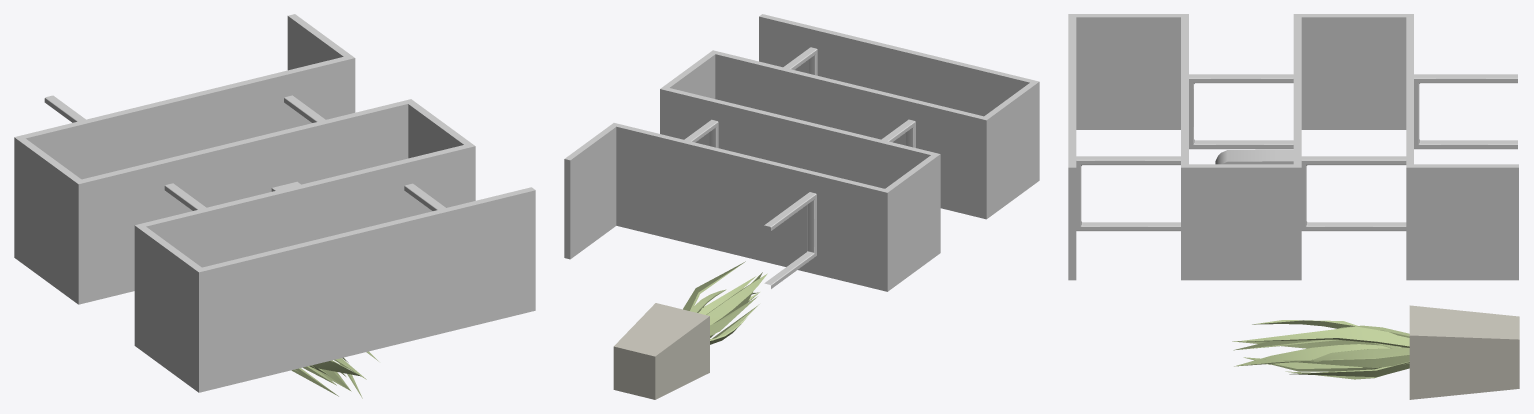
3 views of the same model, side by side, from view 1: azimuth 30°, elevation 25°; view 2: azimuth 150°, elevation 25°; view 3: azimuth 270°, elevation 25° (orthographic). The views are drawn at different scales.
Visible parts, largest first — view 1: LOD 1_9349224857173253257_9f73f2b44b4d1f845949e963dff5a984; view 2: LOD 1_9349224857173253257_9f73f2b44b4d1f845949e963dff5a984; view 3: LOD 1_9349224857173253257_9f73f2b44b4d1f845949e963dff5a984.
Boxes of the visible parts, x1,y1,x2,y2 form: LOD 1_9349224857173253257_9f73f2b44b4d1f845949e963dff5a984: (14,14,535,398); LOD 1_9349224857173253257_9f73f2b44b4d1f845949e963dff5a984: (564,14,1039,399); LOD 1_9349224857173253257_9f73f2b44b4d1f845949e963dff5a984: (1068,14,1519,399).
Bounding box in the file's own units: 0.016 × 0.0125 × 0.0199.
